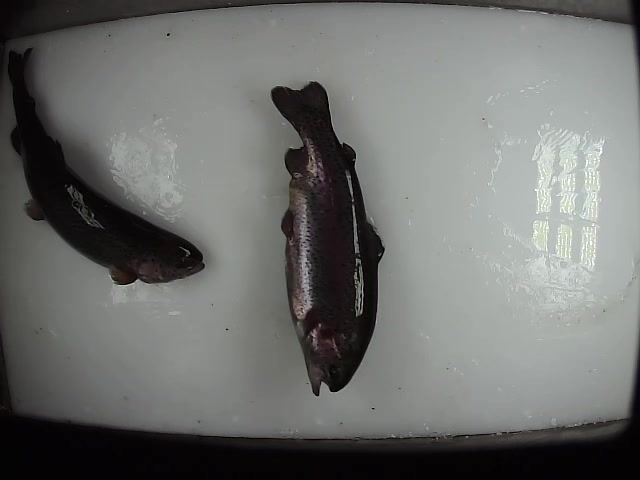Fish: (6, 45, 205, 286), (273, 81, 385, 395)
